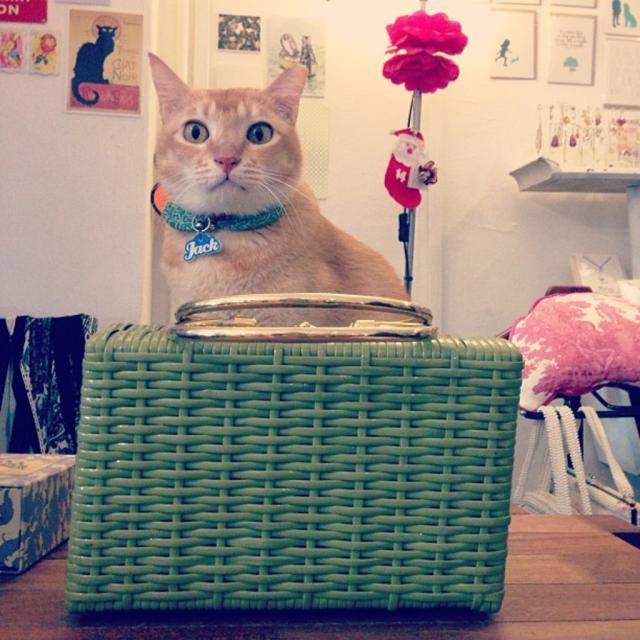Cat: (145, 50, 417, 322)
